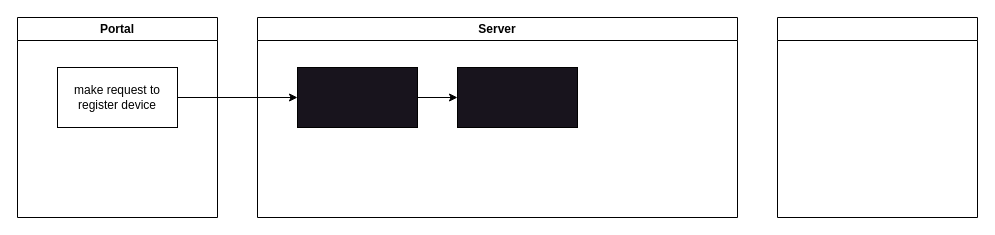
The diagram is 995 pixels wide and 235 high, and some of its shapes have lost their labels. Here are the shapes that lost their labels. From the top down, the box of each, then its label:
(296, 66, 418, 128): request received to
(776, 16, 978, 218): Device
